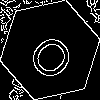O: (25, 25, 84, 85)
